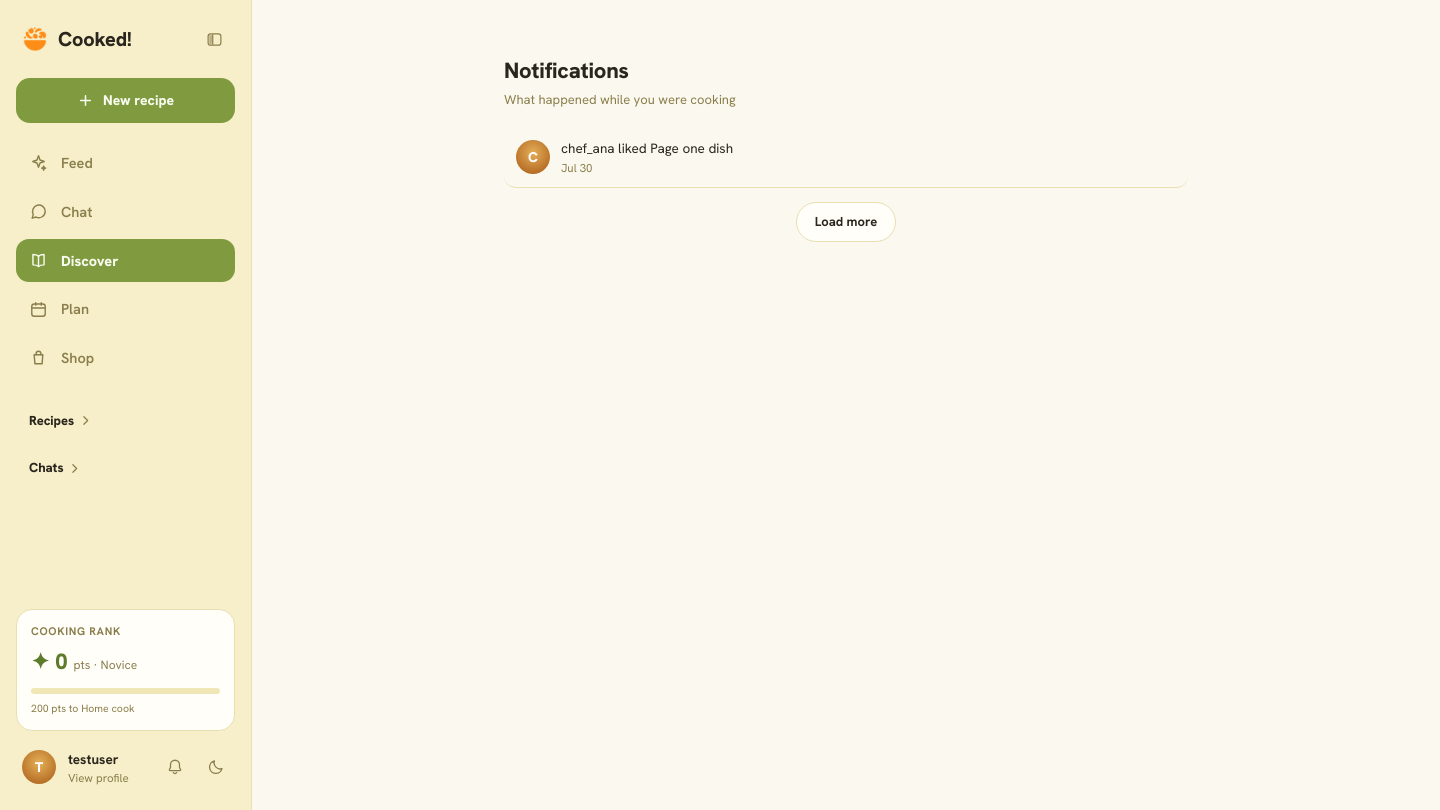
Test: the notifications page › walks keyset pages without duplicates
Expected: the text "chef_ana liked Page one dish" is shown, top-left (561, 138), bottom-right (733, 156)
What coordinates should you click on to do the following:
click the button "Load more"
I would click on:
 (846, 222)
Its box is top-left (796, 202), bottom-right (896, 242).
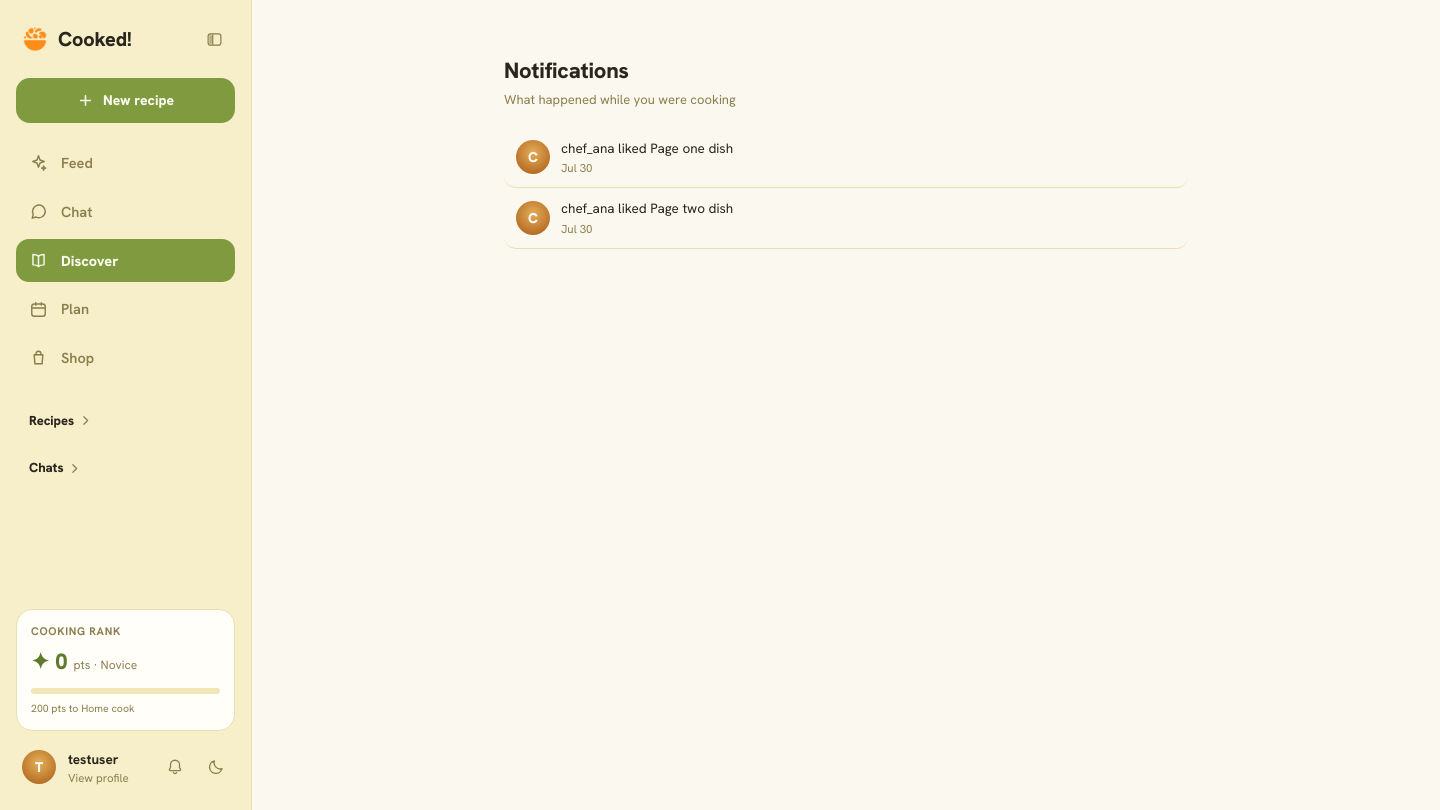
Expected: the text "chef_ana liked Page two dish" is shown, top-left (561, 199), bottom-right (733, 217)
Expected: the text "chef_ana liked Page one dish" is shown 2 times, top-left (561, 138), bottom-right (733, 156); top-left (561, 199), bottom-right (733, 217)
